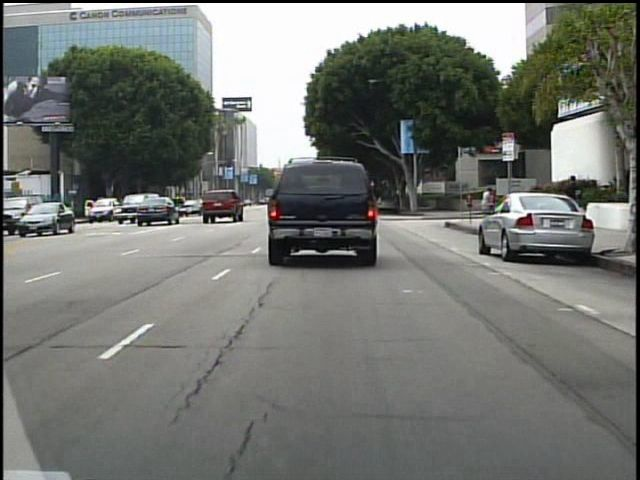person: (561, 171, 586, 233), (480, 185, 493, 214)
